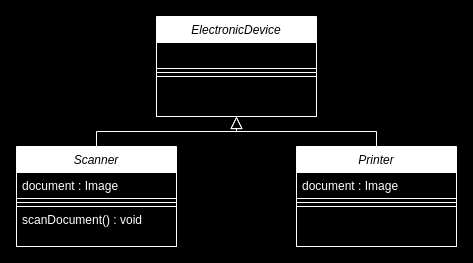
The diagram is 473 pixels wide and 263 high, and some of its shapes have lost their labels. The shapes that lost their labels are listed below. From the top down, each one's centre as x and y in pixels, then its label:
At [236,55]: "isOn : boolean".
At [236,96]: "powerOn() : void powerOff() : void".
At [376,226]: "printDocument() : void".
